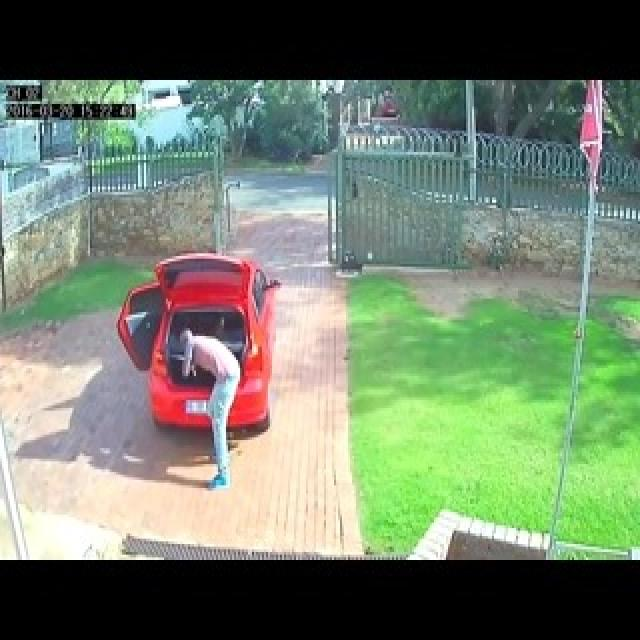thief: (167, 318, 240, 438)
